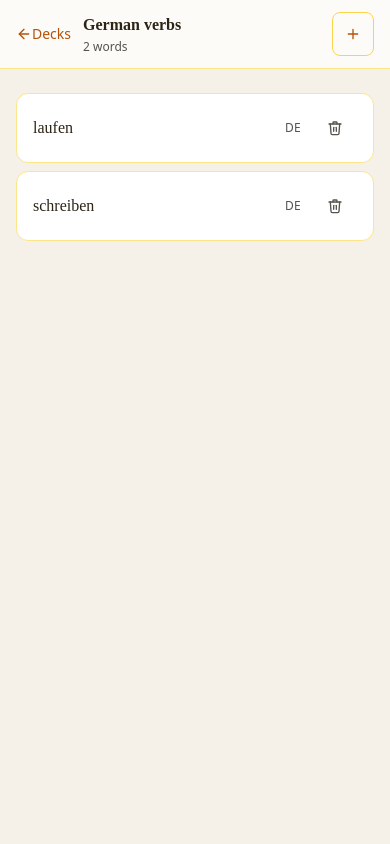
Test: pressing Escape closes the AddWordPicker
Expected: the text "laufen" is shown, x1=33 y1=119 x2=73 y2=136
Click the button named "add word" at (353, 34), box x1=332 y1=12 x2=374 y2=56
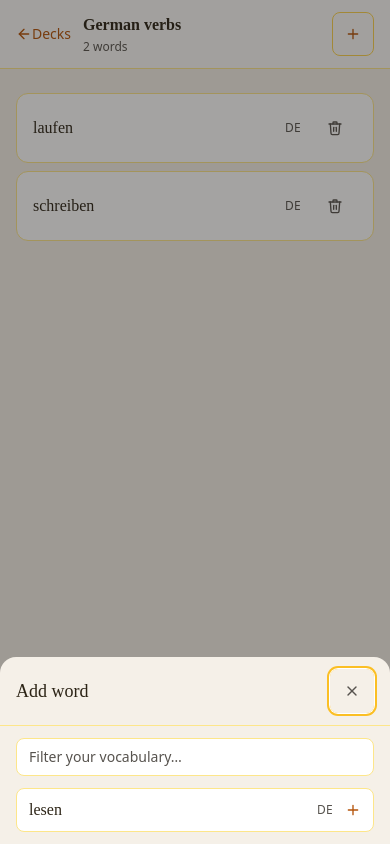
Result: the dialog is shown at x1=0 y1=657 x2=389 y2=843
Press Escape
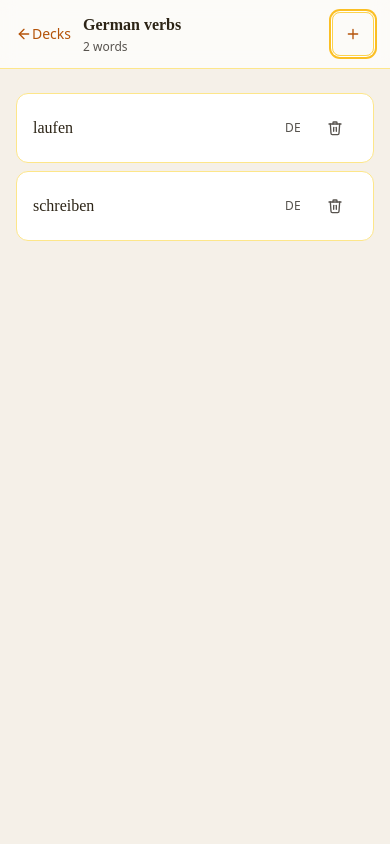
Result: the dialog is gone
